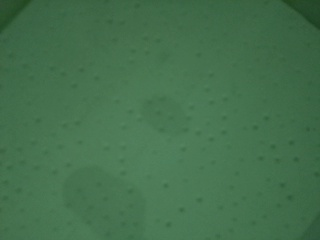Water_detected: (75, 177, 141, 236), (137, 99, 188, 141)
